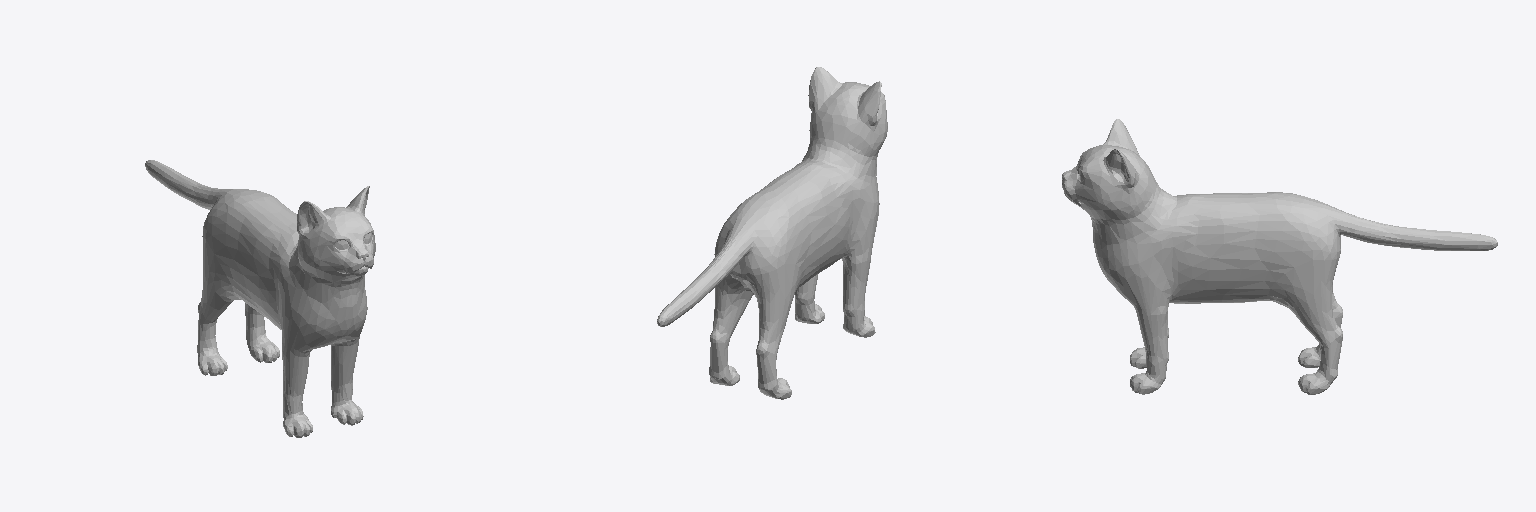
The model's file is cat.obj.
The picture shows the model from 3 angles: view 1: azimuth 30°, elevation 25°; view 2: azimuth 150°, elevation 25°; view 3: azimuth 270°, elevation 25°; orthographic projection.
Visible parts, largest first — view 1: cat.002; view 2: cat.002; view 3: cat.002.
Part boxes in pixels (x1,y1,x2,y2): cat.002: (145,160,375,437); cat.002: (657,67,887,399); cat.002: (1062,119,1497,394).
Size of the model in its own units: 1.26 by 3.76 by 6.09.